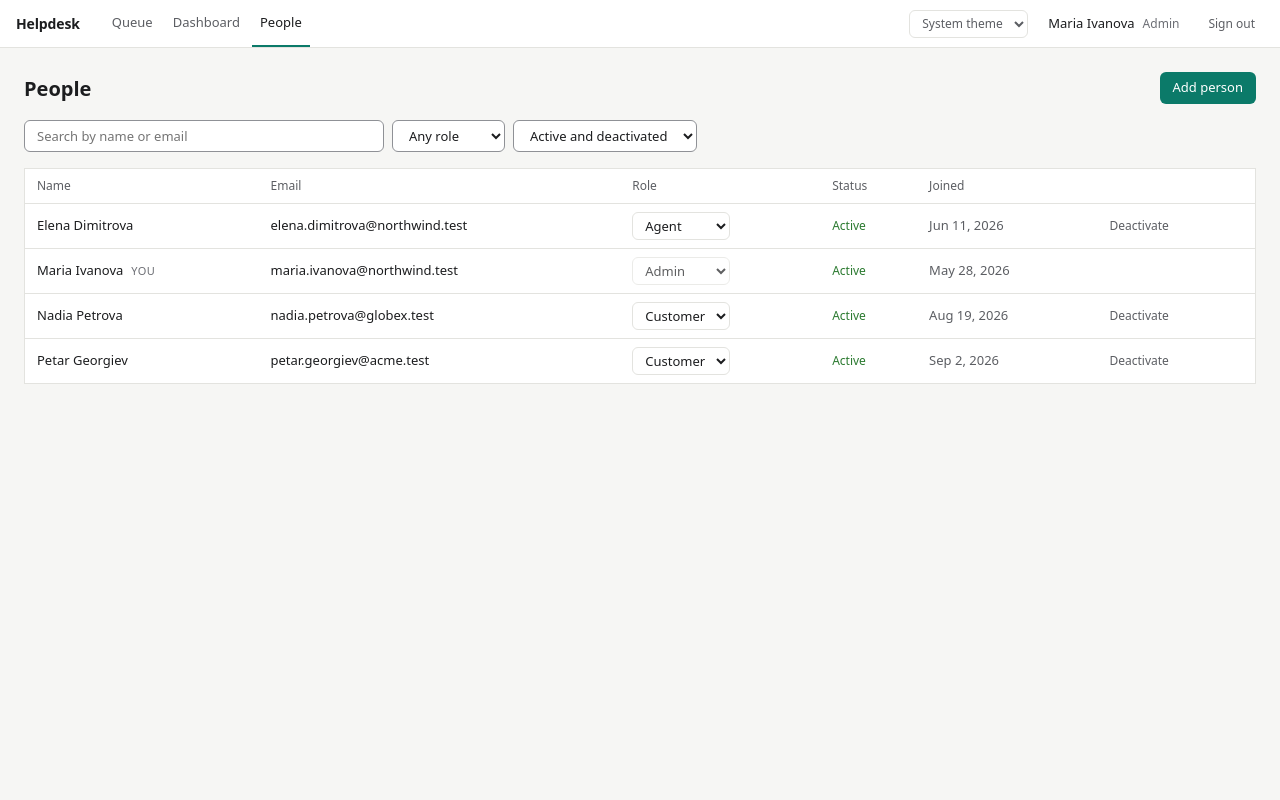
Test case: the people page › says when the email already has an account
This screenshot has width=1280, height=800.
Click the button "Add person". click: (1208, 88)
box: [1160,72,1256,104]
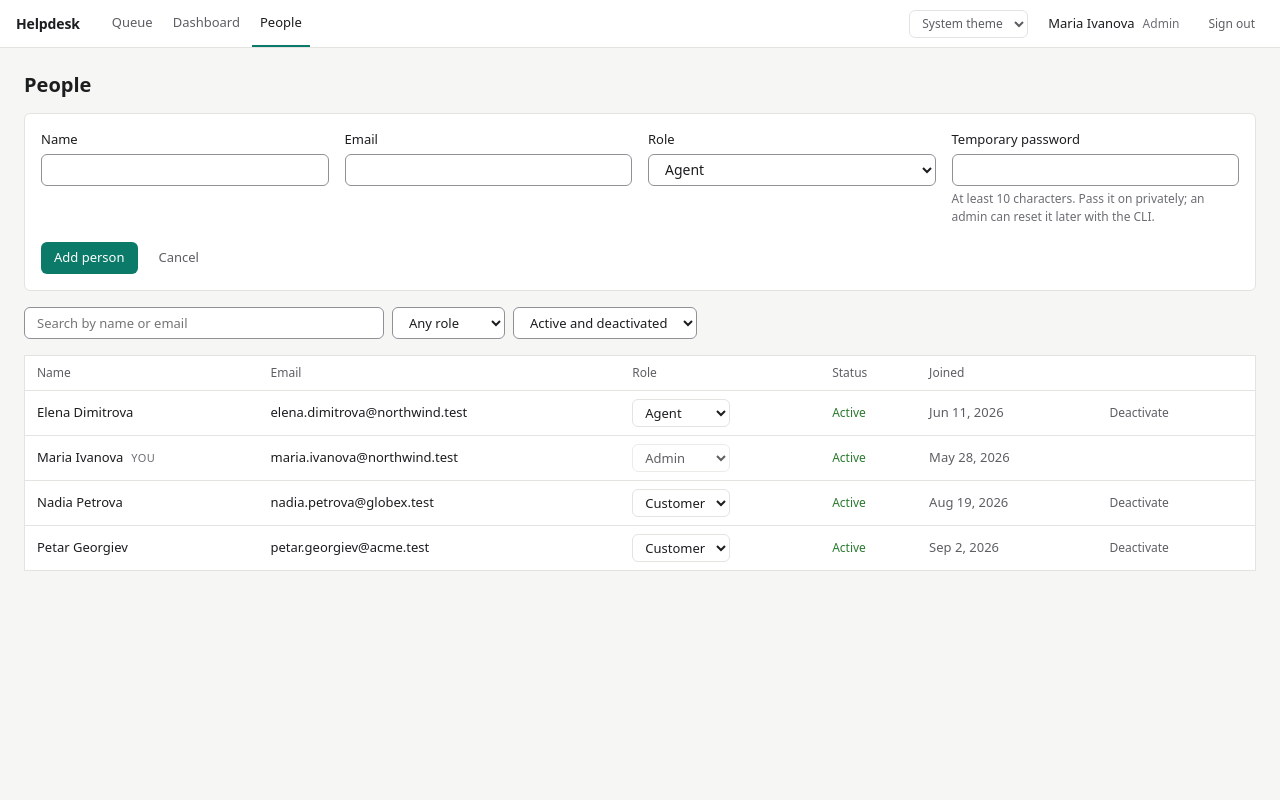
Type "Elena Again" into the field labelled "Name". click: (185, 170)
box: [41,154,328,186]
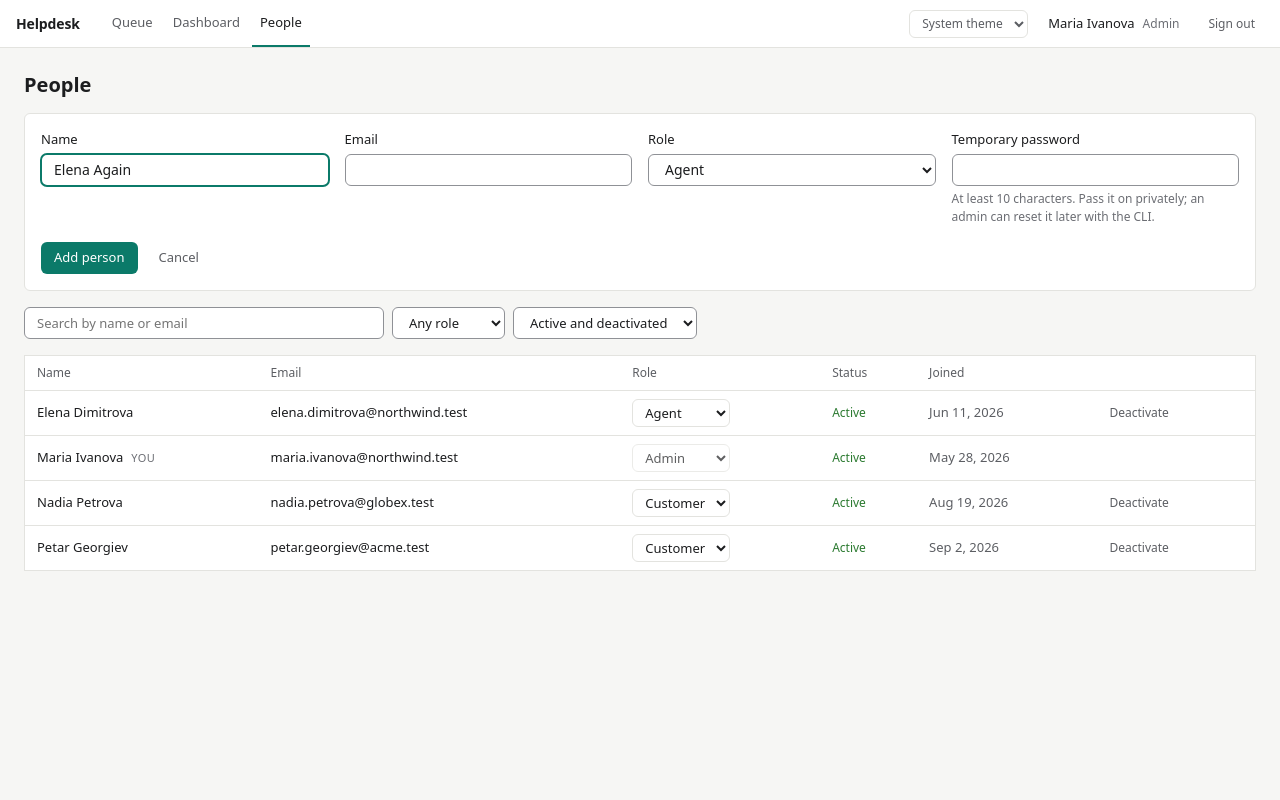
Type "elena.dimitrova@northwind.test" into the field labelled "Email". click: (488, 170)
box: [344,154,632,186]
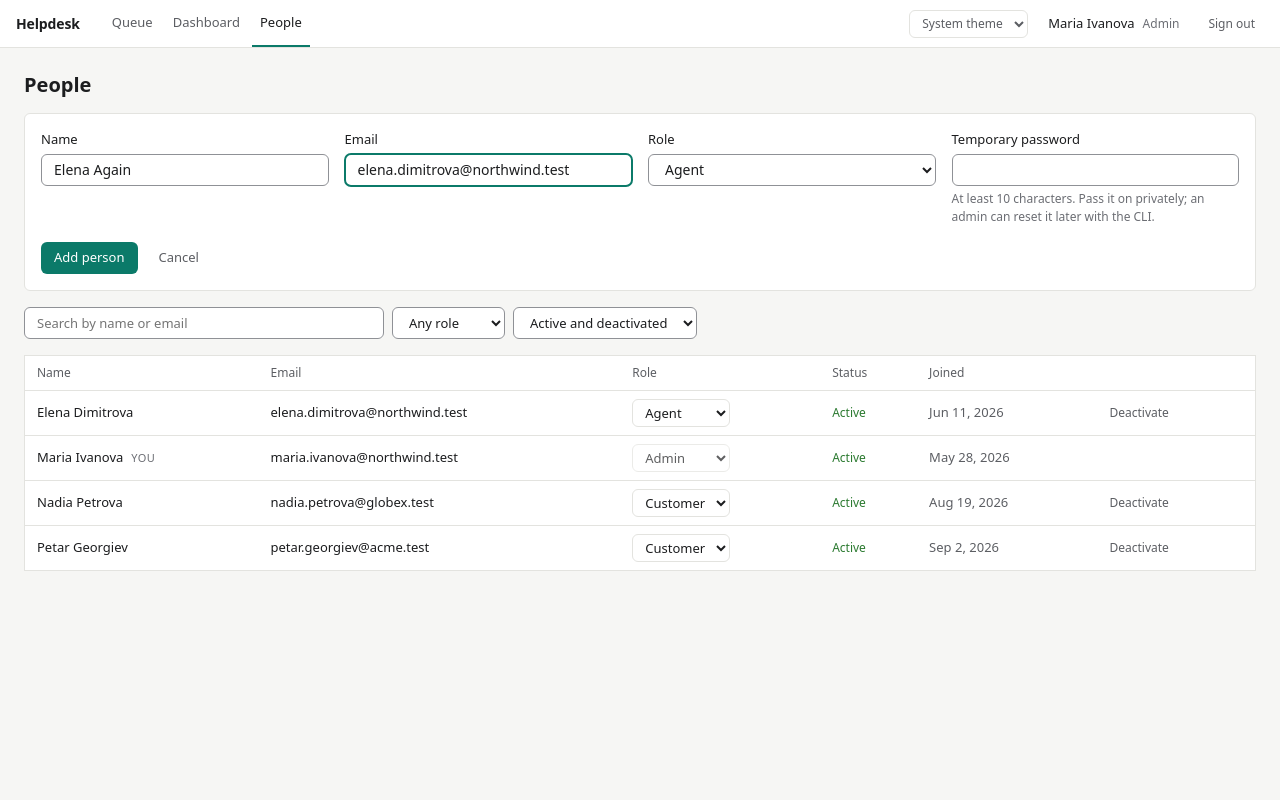
Type "first-shift-2026" into the field labelled "Temporary password". click: (1095, 170)
box: [952,154,1239,186]
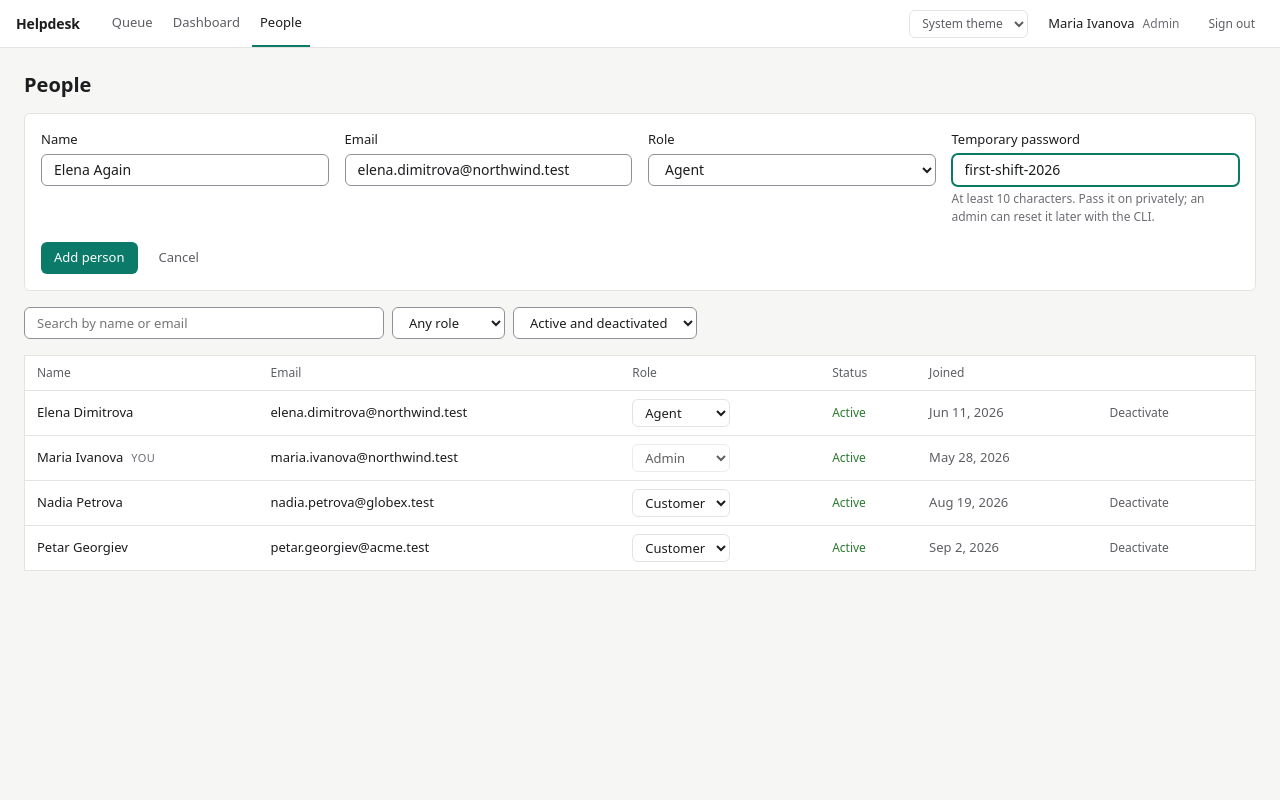
Click the button "Add person". click: (89, 258)
box: [41,242,138,274]
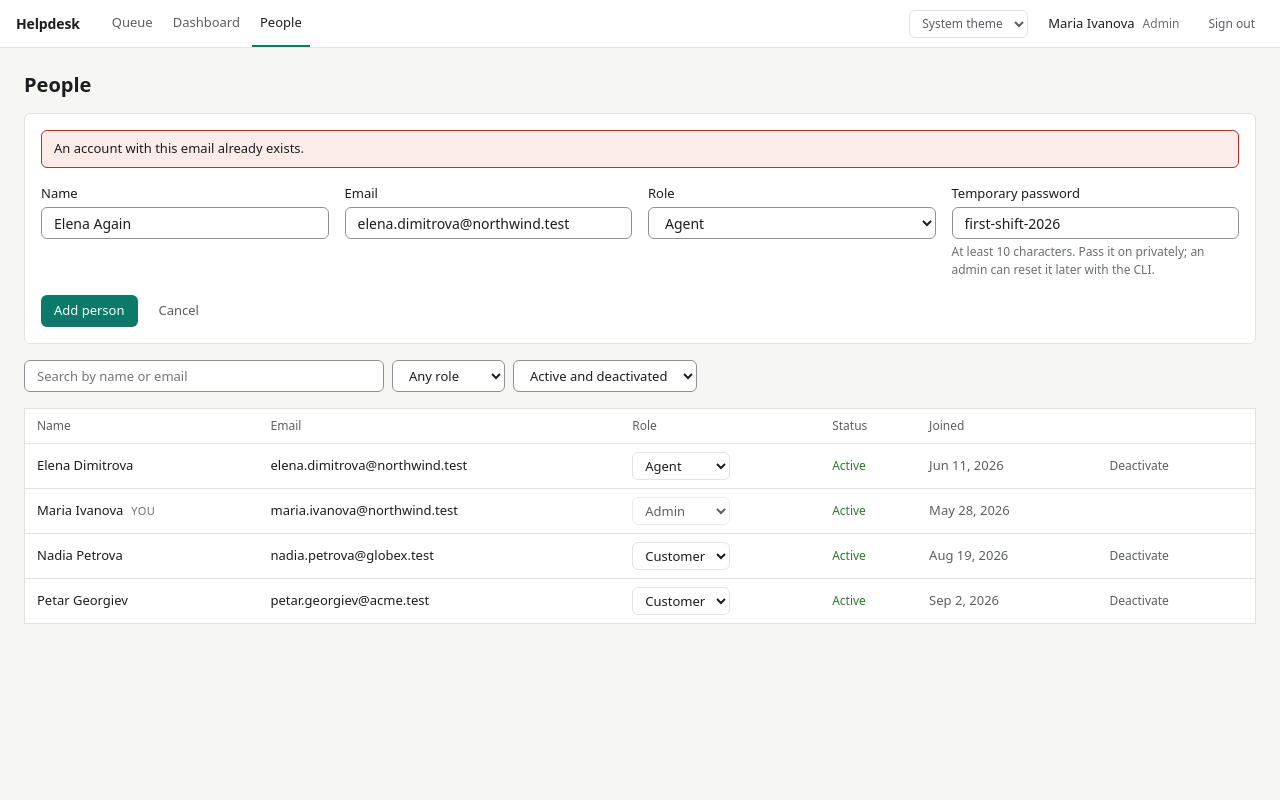
Expected: the message reads "An account with this email already exists.", [54,139,304,157]
